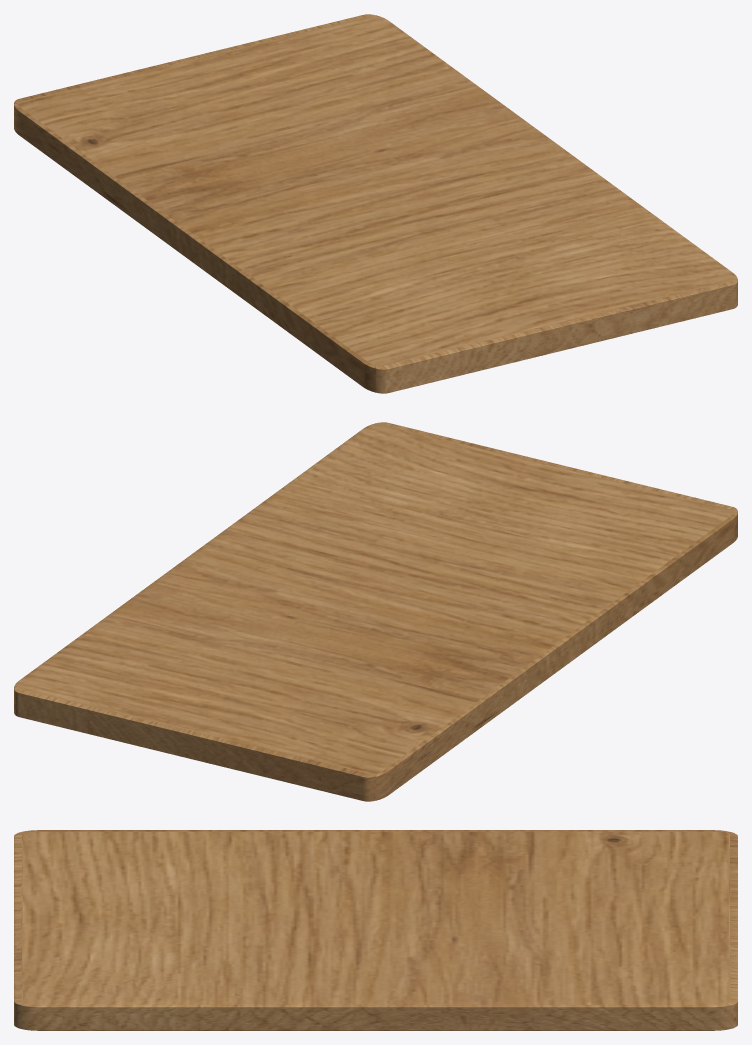
Rendered from bevelEncino.glb.
3 renders of one model, top to bottom at view 1: azimuth 30°, elevation 25°; view 2: azimuth 150°, elevation 25°; view 3: azimuth 270°, elevation 25°, orthographic.
Visible parts, largest first — view 1: Cube; view 2: Cube; view 3: Cube.
Boxes of the visible parts, x1,y1,x2,y2 form: Cube: (14,14,737,393); Cube: (14,422,737,801); Cube: (14,830,737,1030).
Bounding box in the file's own units: 2.57 × 0.1714 × 4.44.
1 material, 1 textured.
